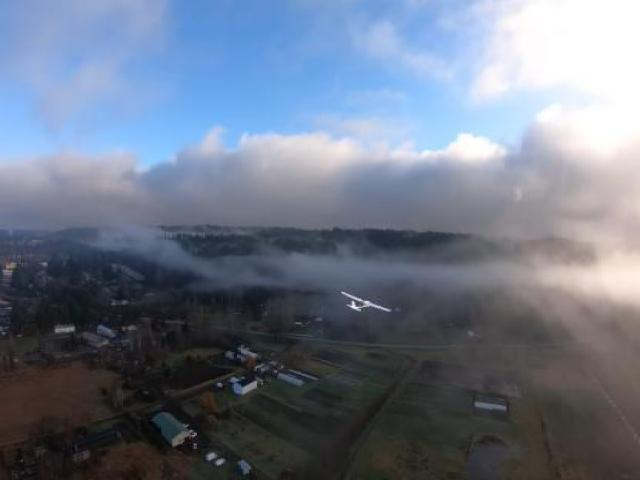uav: (337, 283, 398, 324)
